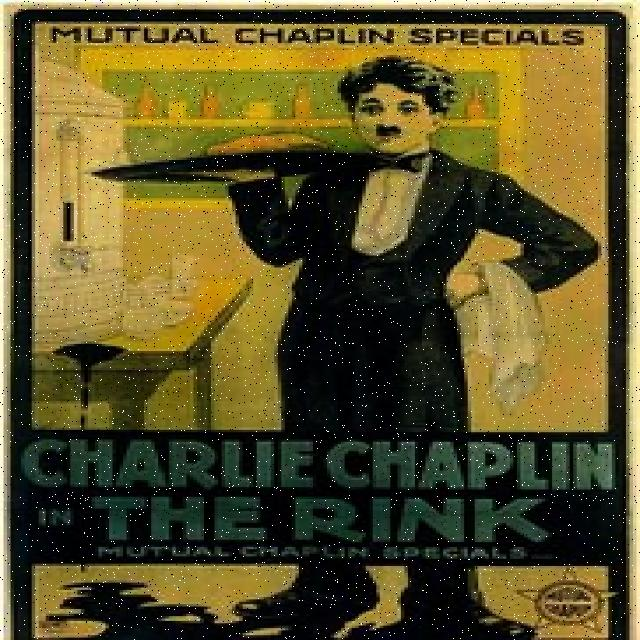movie-judul: (26, 434, 622, 562)
picture: (96, 53, 607, 640)
